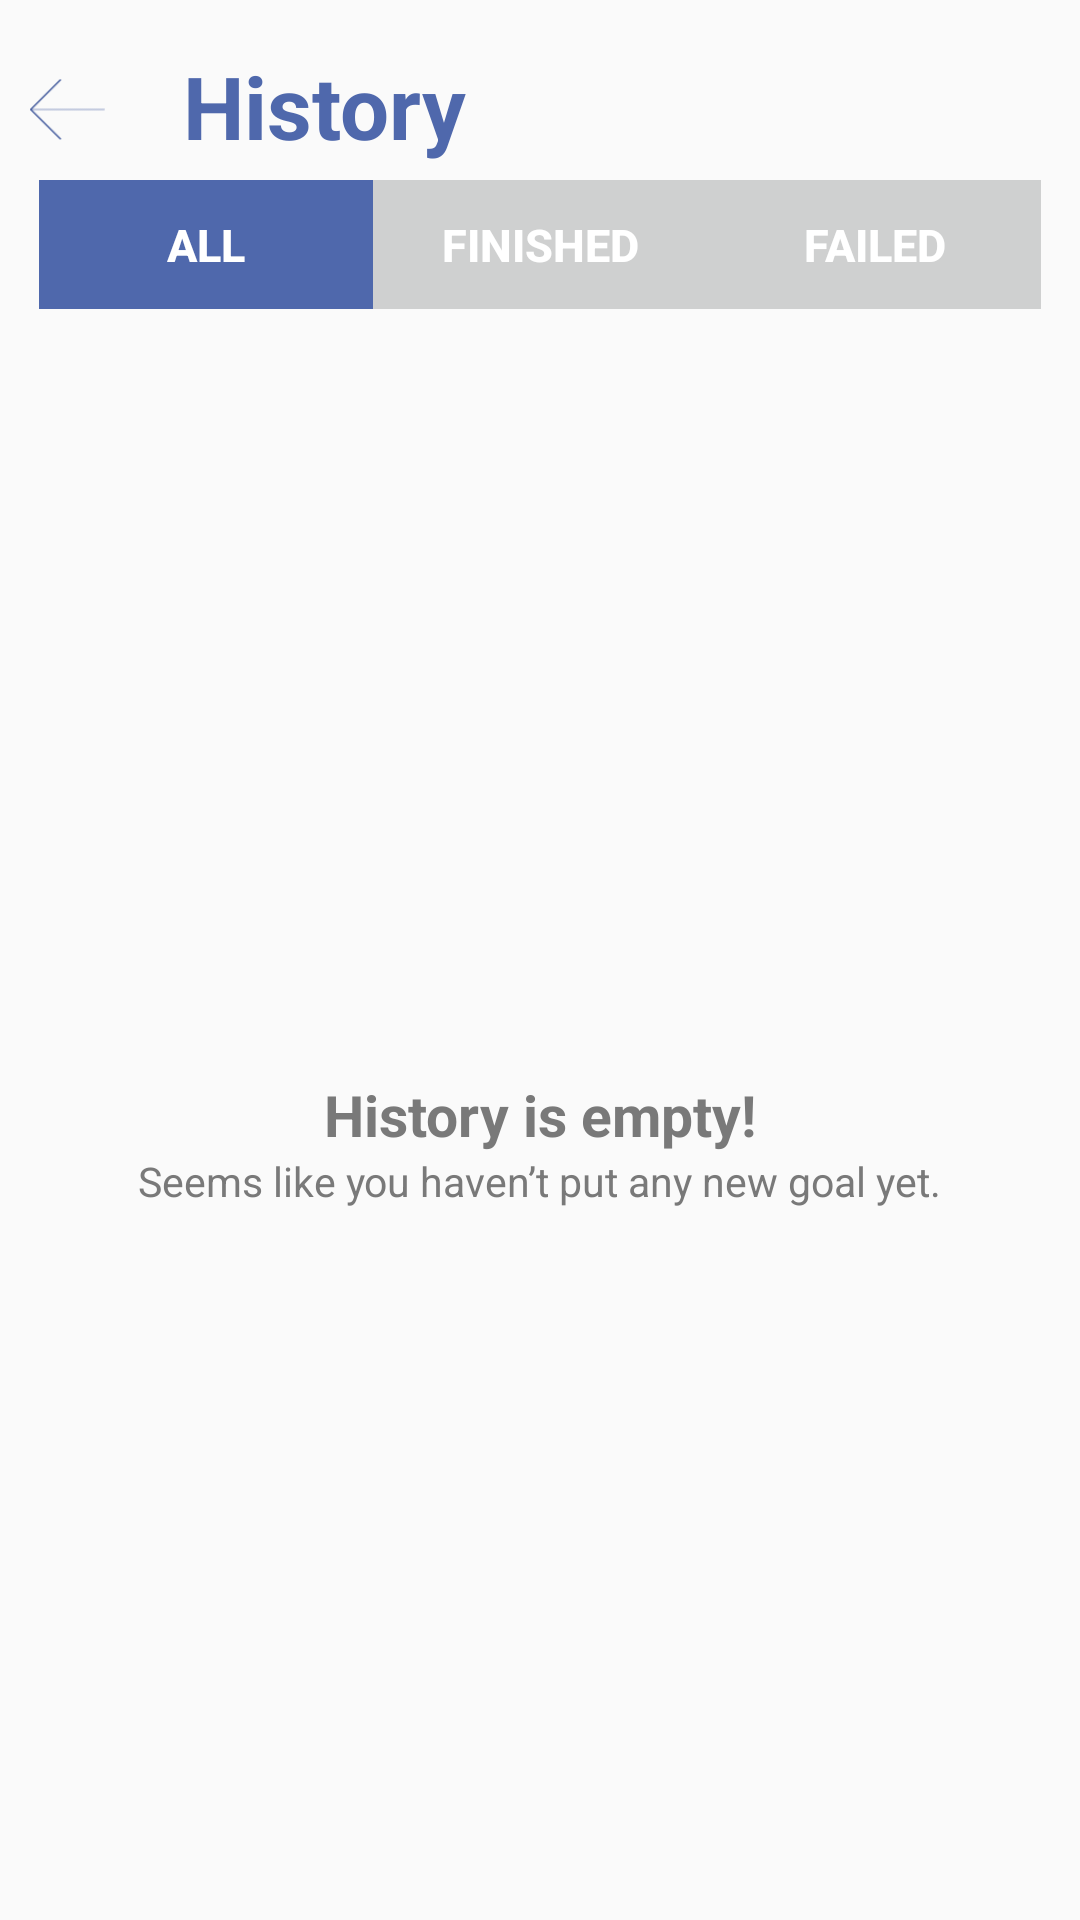

Point at icon controls on the screen. Image size 1080px×1920px, points as point (x, y).
bluearrow: point (67, 109)
